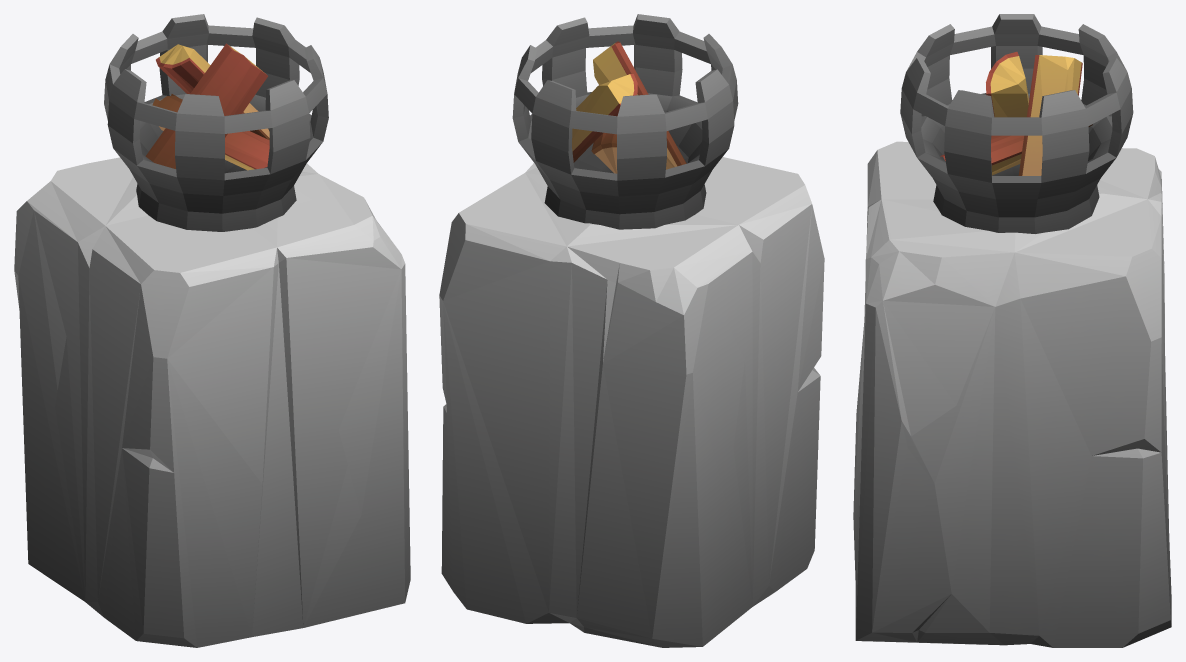
The model's file is rockblock_torch1.glb.
The picture shows the model from 3 angles, left to right: view 1: azimuth 30°, elevation 25°; view 2: azimuth 150°, elevation 25°; view 3: azimuth 270°, elevation 25°; orthographic projection. The views are drawn at different scales.
Parts seen in each view (by area): view 1: RockBlock_Torch1_mesh1; view 2: RockBlock_Torch1_mesh1; view 3: RockBlock_Torch1_mesh1.
Part boxes in pixels (x1,y1,x2,y2): RockBlock_Torch1_mesh1: [14, 14, 410, 647]; RockBlock_Torch1_mesh1: [439, 14, 824, 647]; RockBlock_Torch1_mesh1: [853, 14, 1171, 647].
Size of the model in its own units: 0.9109 by 1.73 by 0.9227.
Materials: 1 (1 with a texture image).
